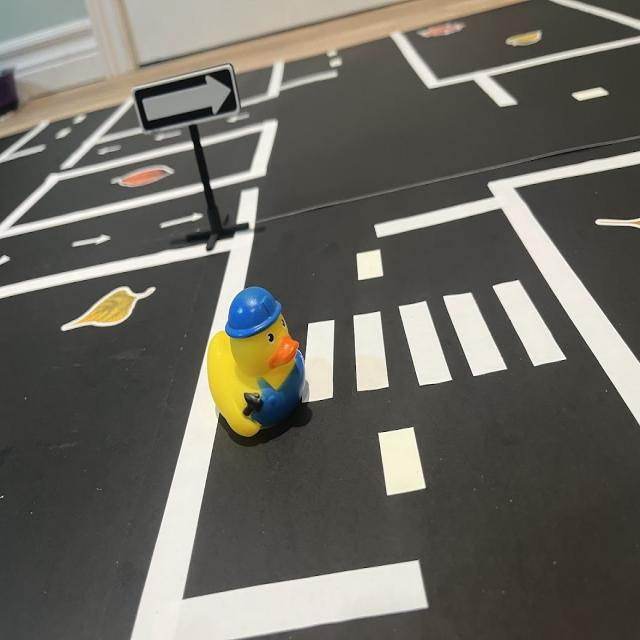duck_specialty: (203, 286, 312, 445)
road_crosswalk: (303, 269, 573, 415)
road_oneway: (68, 228, 119, 256), (149, 214, 206, 231)
sign_oneway_right: (135, 68, 244, 137)
